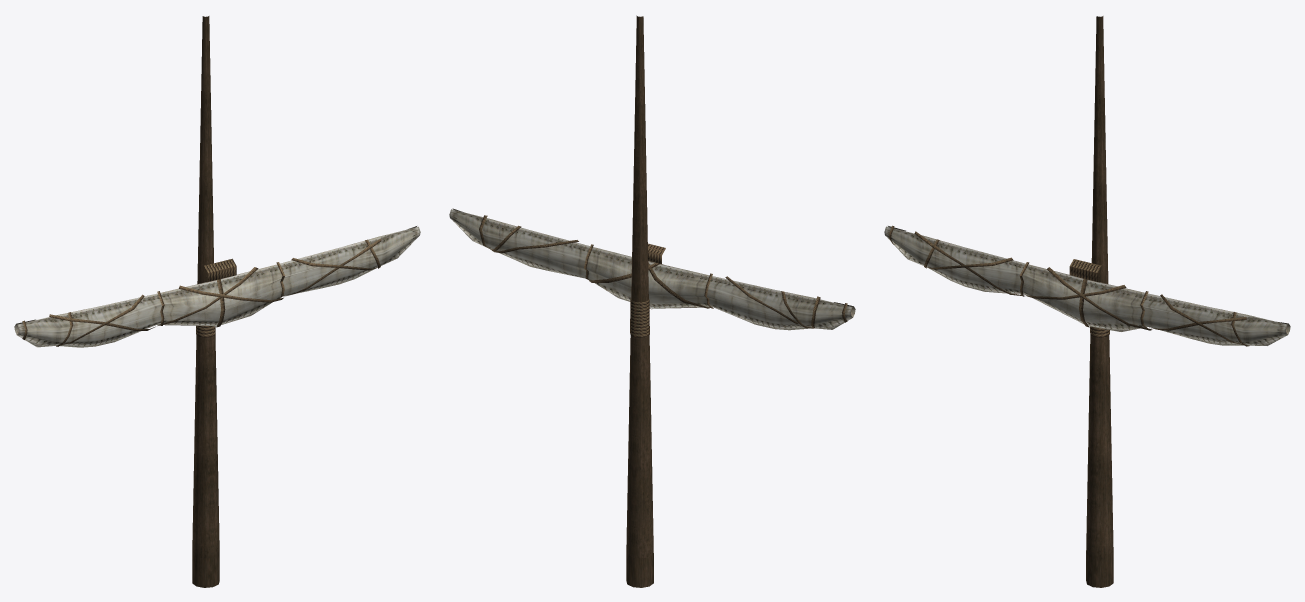
Rendered from main_dot.glb.
3 views of the same model, side by side, from view 1: azimuth 30°, elevation 25°; view 2: azimuth 150°, elevation 25°; view 3: azimuth 330°, elevation 25° (orthographic).
Parts seen in each view (by area): view 1: main_dot; view 2: main_dot; view 3: main_dot.
Part boxes in pixels (box(x1,y1,x2,y2)): main_dot: box(14, 16, 420, 587); main_dot: box(449, 15, 855, 587); main_dot: box(884, 16, 1290, 587).
Size of the model in its own units: 55.27 by 74.56 by 6.16.
3 materials, 3 textured.
